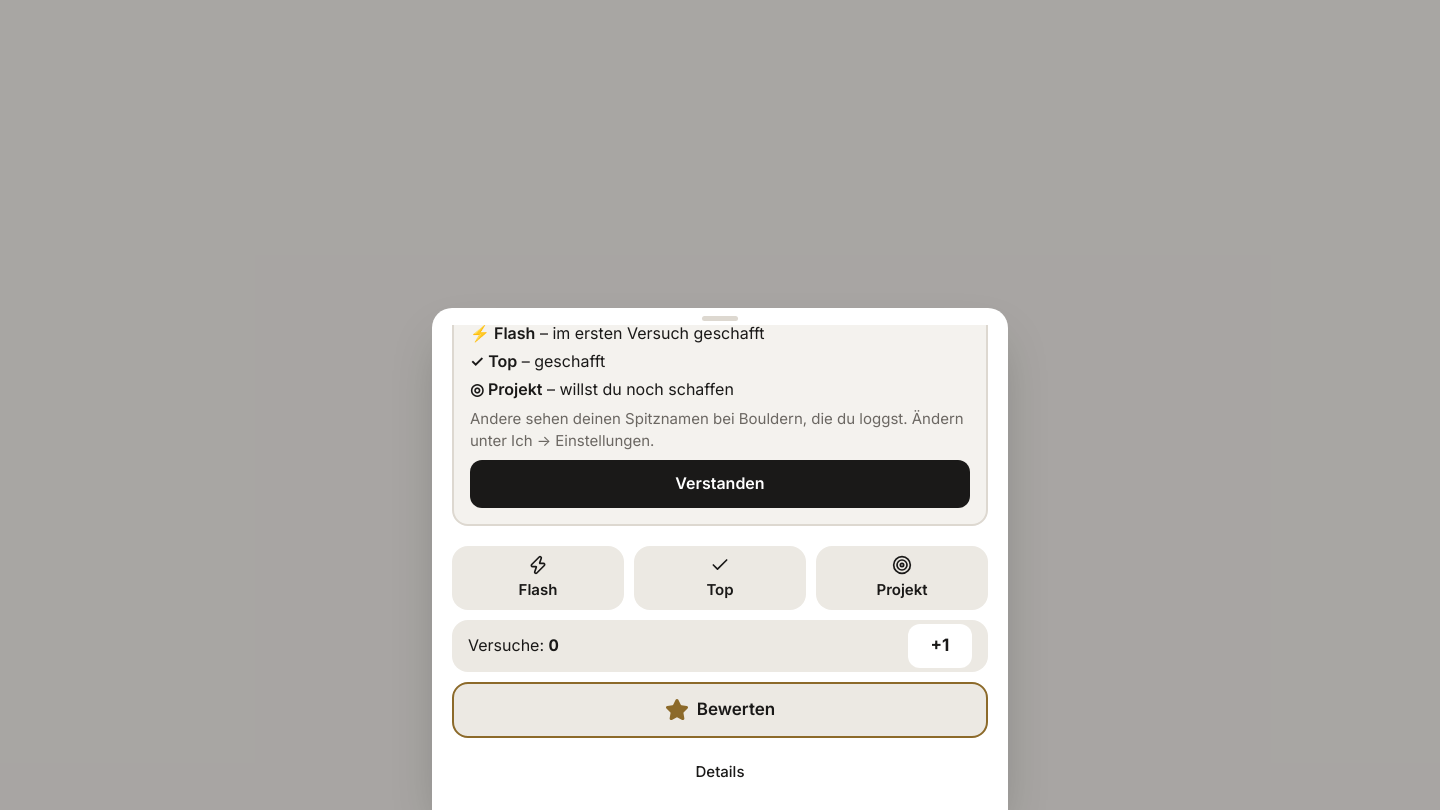
Test: SPEC-020 Redesign «Kreide» & Text-Diät › Boulder-Detail › zeigt nie eine UUID, sondern den Schrauber-Namen oder «Hallenteam» (AC-6.2)
The width and height of the screenshot is (1440, 810).
(page scrolled)
Click the button with test id "boulder-sheet-more": (720, 772) x1=452 y1=750 x2=988 y2=794
(page scrolled)
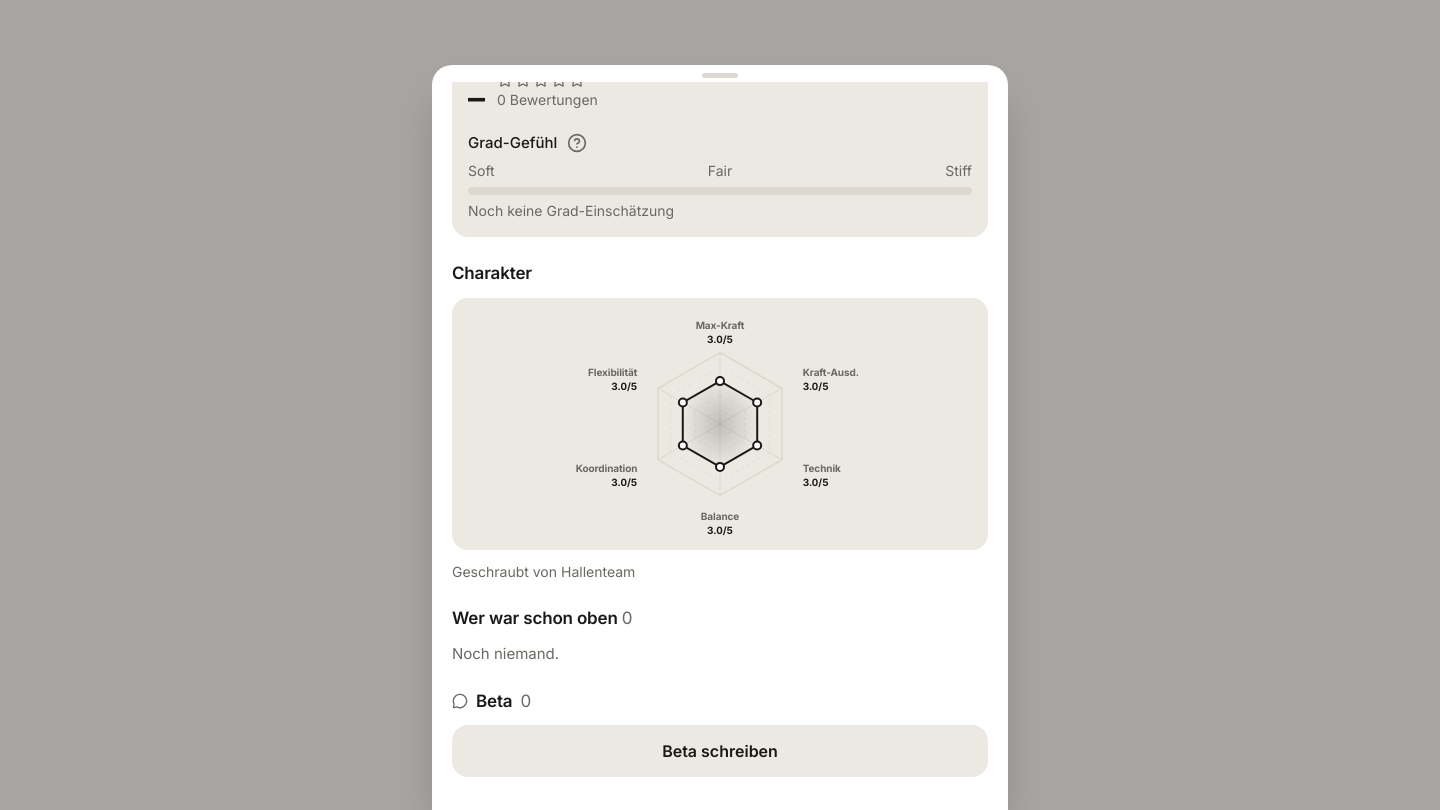
Check: the text "Geschraubt von Hallenteam" is shown, box x1=452 y1=563 x2=635 y2=580
